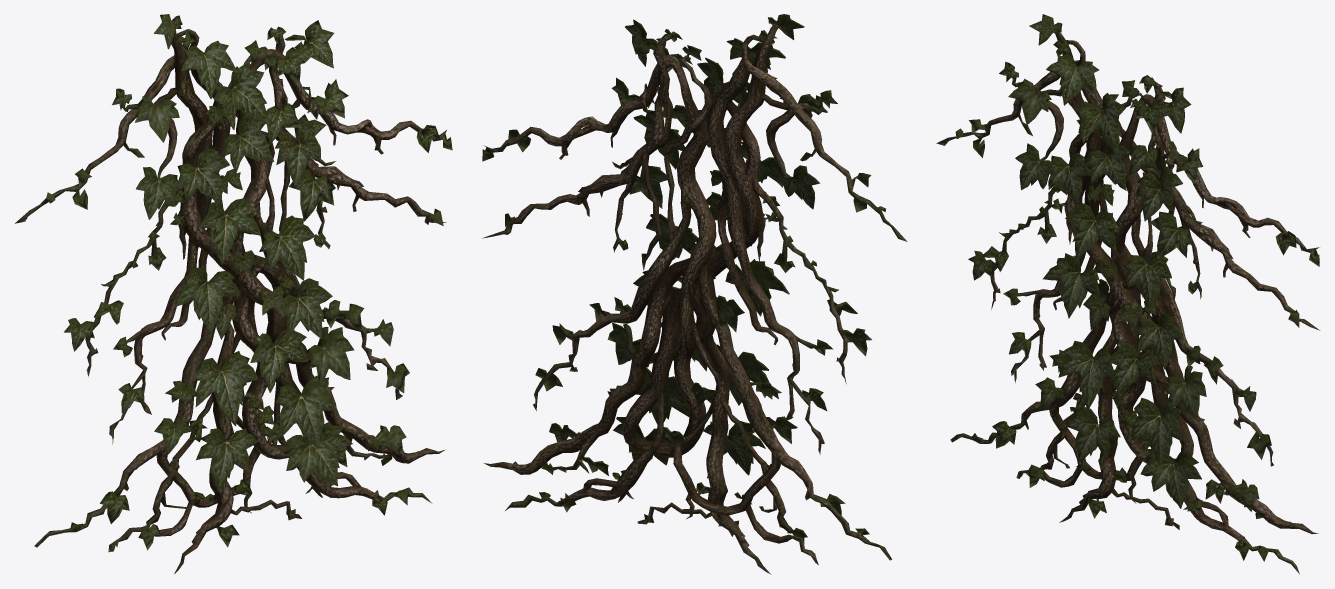
The model's file is Ivy_Vines_01.fbx.
3 views of the same model, side by side, from view 1: azimuth 30°, elevation 25°; view 2: azimuth 150°, elevation 25°; view 3: azimuth 330°, elevation 25° (orthographic). The views are drawn at different scales.
Visible parts, largest first — view 1: Ivy_Vines_01; view 2: Ivy_Vines_01; view 3: Ivy_Vines_01.
Boxes of the visible parts, box(x1,y1,x2,y2) form: Ivy_Vines_01: box(15, 14, 452, 573); Ivy_Vines_01: box(482, 14, 907, 574); Ivy_Vines_01: box(936, 14, 1320, 574).
Bounding box in the file's own units: 267 × 333 × 30.35.
Materials: 1 (1 with a texture image).
